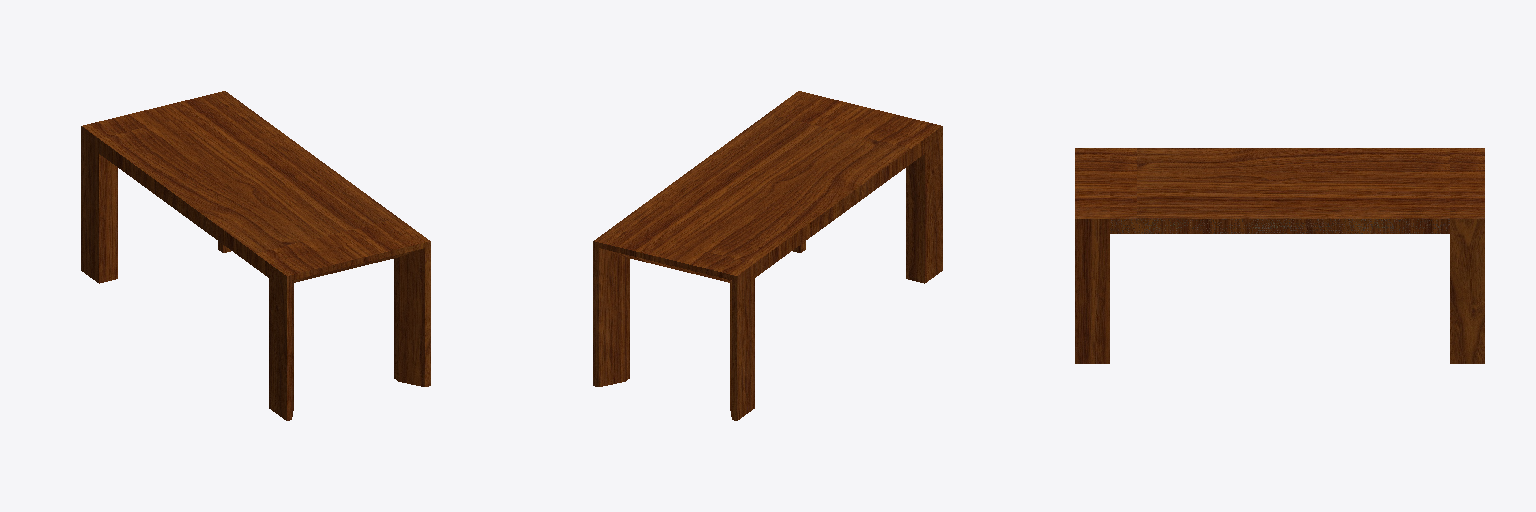
3 views of the same model, side by side, from view 1: azimuth 30°, elevation 25°; view 2: azimuth 150°, elevation 25°; view 3: azimuth 270°, elevation 25° (orthographic).
Parts seen in each view (by area): view 1: mesh5_mesh5-geometry, mesh2_mesh2-geometry, mesh1_mesh1-geometry; view 2: mesh5_mesh5-geometry, mesh1_mesh1-geometry, mesh2_mesh2-geometry; view 3: mesh5_mesh5-geometry, mesh2_mesh2-geometry, mesh1_mesh1-geometry, mesh7_mesh7-geometry.
Boxes of the visible parts, box(x1,y1,x2,y2) form: mesh5_mesh5-geometry: box(99, 104, 411, 277); mesh2_mesh2-geometry: box(269, 228, 430, 420); mesh1_mesh1-geometry: box(81, 91, 242, 283); mesh5_mesh5-geometry: box(612, 104, 924, 277); mesh1_mesh1-geometry: box(593, 228, 754, 420); mesh2_mesh2-geometry: box(781, 91, 942, 283); mesh5_mesh5-geometry: box(1110, 148, 1449, 218); mesh2_mesh2-geometry: box(1075, 148, 1109, 363); mesh1_mesh1-geometry: box(1450, 148, 1484, 363); mesh7_mesh7-geometry: box(1110, 219, 1449, 233).
Size of the model in its own units: 0.3527 by 0.3396 by 0.8719.
2 materials, 2 textured.